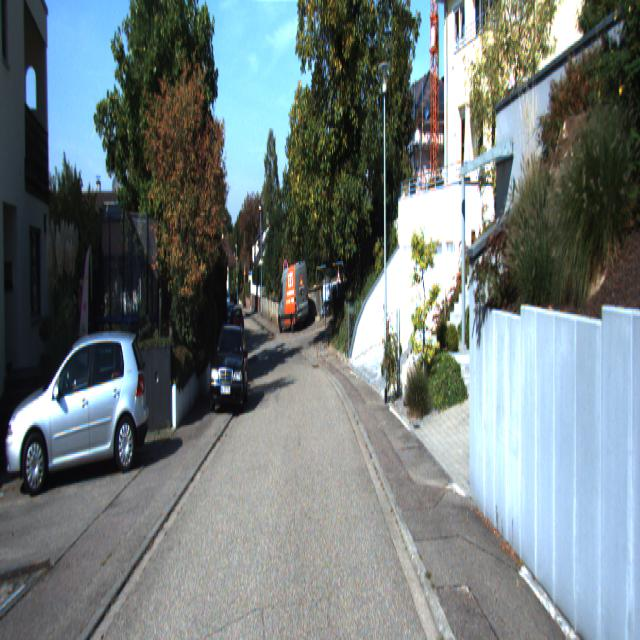Car: (6, 325, 153, 496), (210, 322, 250, 414), (277, 262, 310, 334)
